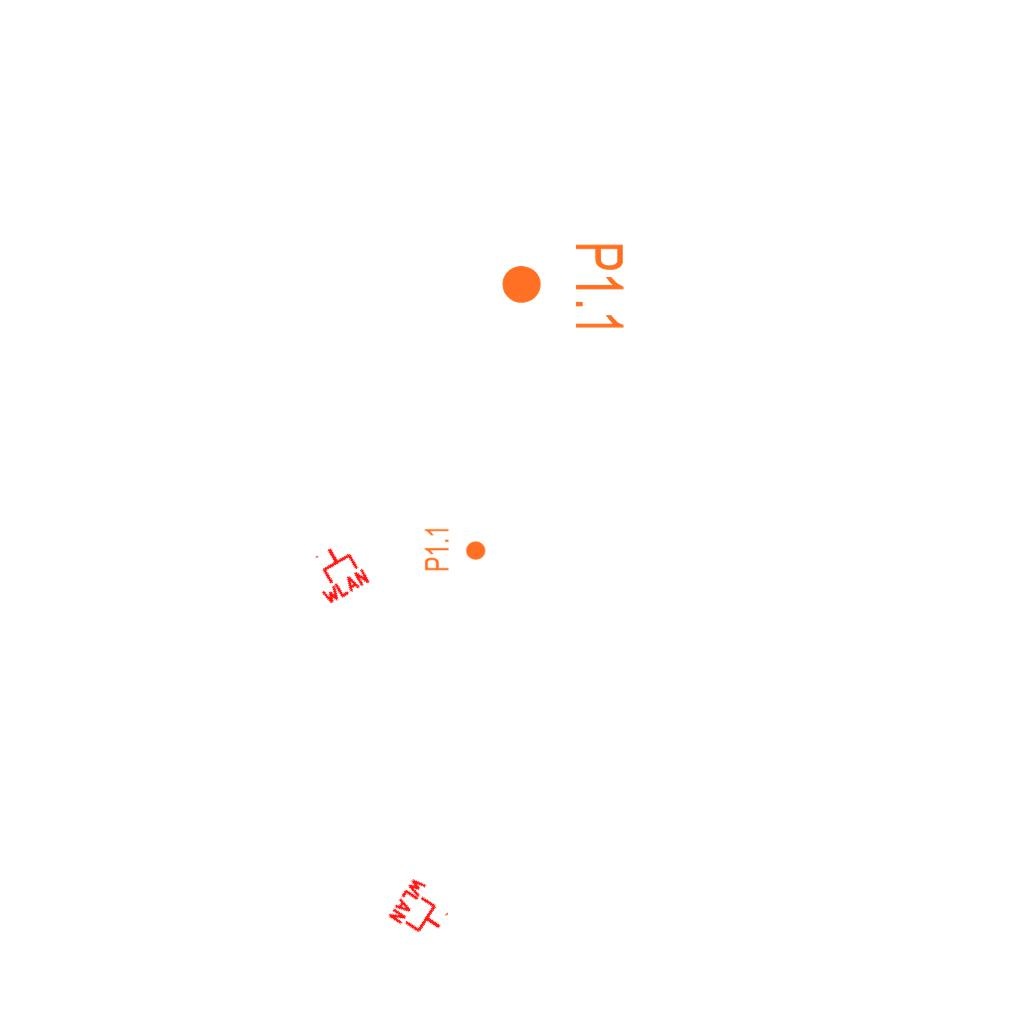Downlight_LED_Einbauleuchten_Flur: (499, 241, 627, 334), (423, 526, 487, 572)
WLAN: (386, 874, 458, 946), (301, 536, 373, 608)
